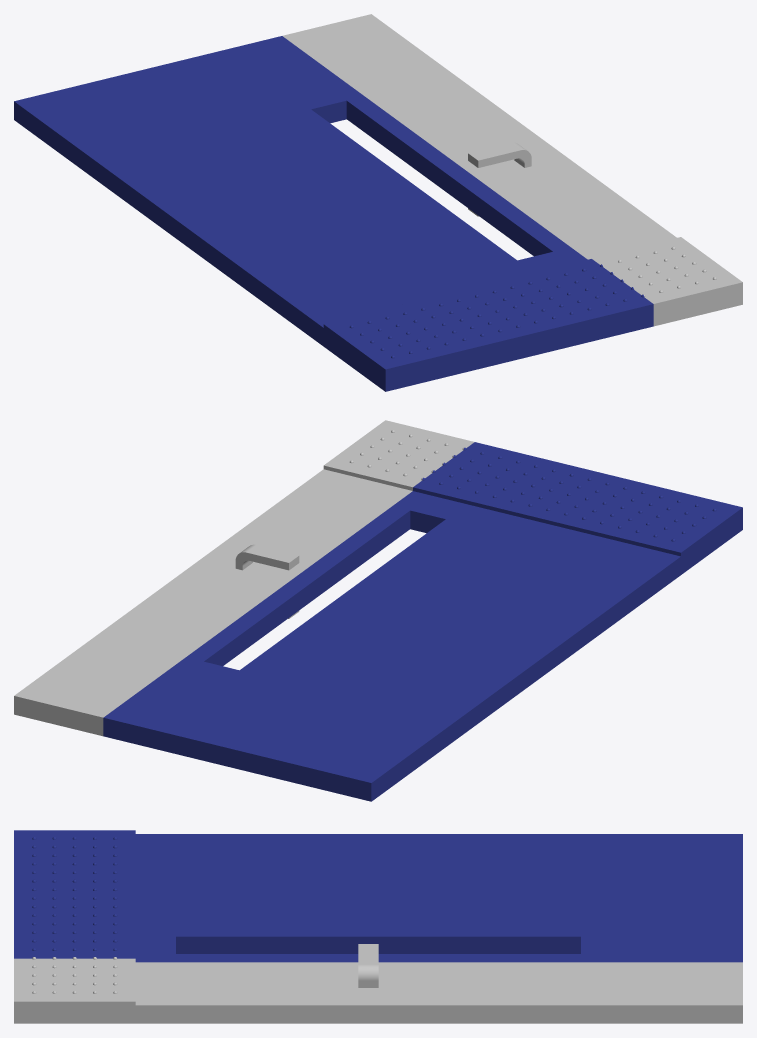
The model's file is Door_v2(Horror_game) v3.fbx.
The picture shows the model from 3 angles, top to bottom: view 1: azimuth 30°, elevation 25°; view 2: azimuth 150°, elevation 25°; view 3: azimuth 270°, elevation 25°; orthographic projection.
Visible parts, largest first — view 1: Body2, Body1; view 2: Body2, Body1; view 3: Body2, Body1.
Part boxes in pixels (<box>): Body2: <box>14,36,653,391</box>; Body1: <box>282,14,742,326</box>; Body2: <box>103,442,742,801</box>; Body1: <box>14,420,474,736</box>; Body2: <box>14,830,742,962</box>; Body1: <box>14,944,742,1023</box>.
Bounding box in the file's own units: 1000 × 150 × 1800.
